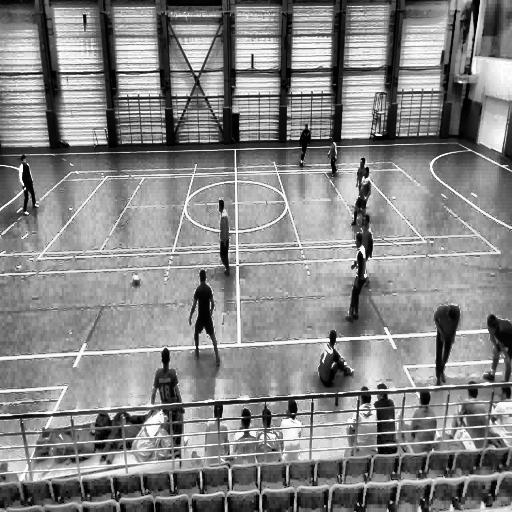ball: (131, 271, 140, 285)
player: (188, 270, 222, 369), (432, 300, 462, 386), (400, 388, 436, 452), (450, 380, 487, 442), (345, 385, 377, 453), (483, 311, 512, 384), (148, 348, 182, 409), (318, 330, 354, 386), (346, 232, 368, 322), (486, 383, 512, 450), (204, 404, 230, 459), (376, 383, 396, 454), (280, 398, 302, 462), (257, 405, 281, 462), (18, 151, 39, 214), (351, 166, 372, 228), (234, 409, 256, 457), (218, 200, 231, 277), (360, 215, 373, 287), (298, 124, 311, 166), (355, 154, 367, 196), (327, 135, 338, 176)
